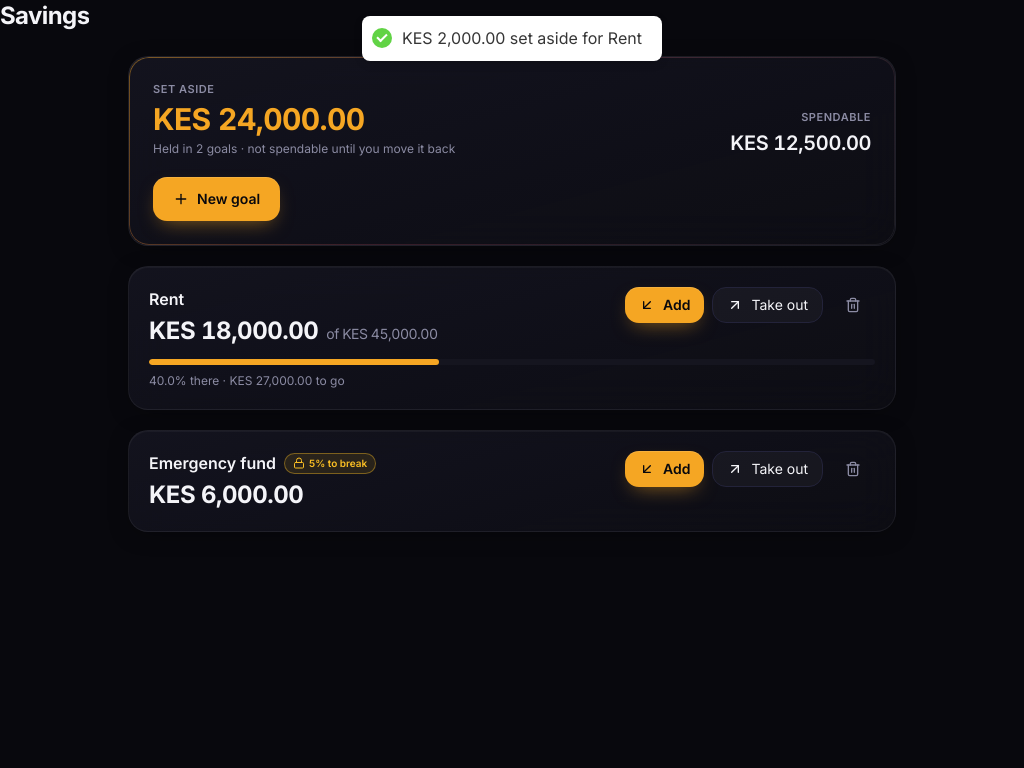
Test: Savings › quotes the early-exit fee before a locked goal is broken into
Click the button "Take out" in the row of "% to break" at (768,469), box [712,451,823,487]
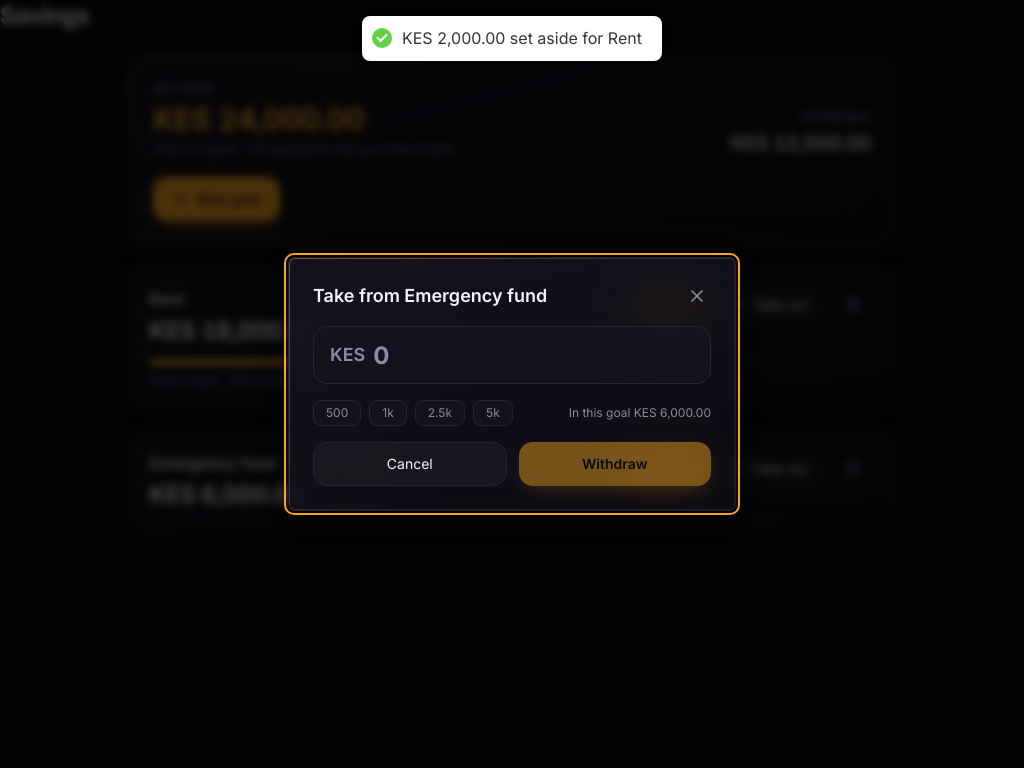
Type "1000" into the field named "amount" at (534,355), box [373,327,694,383]
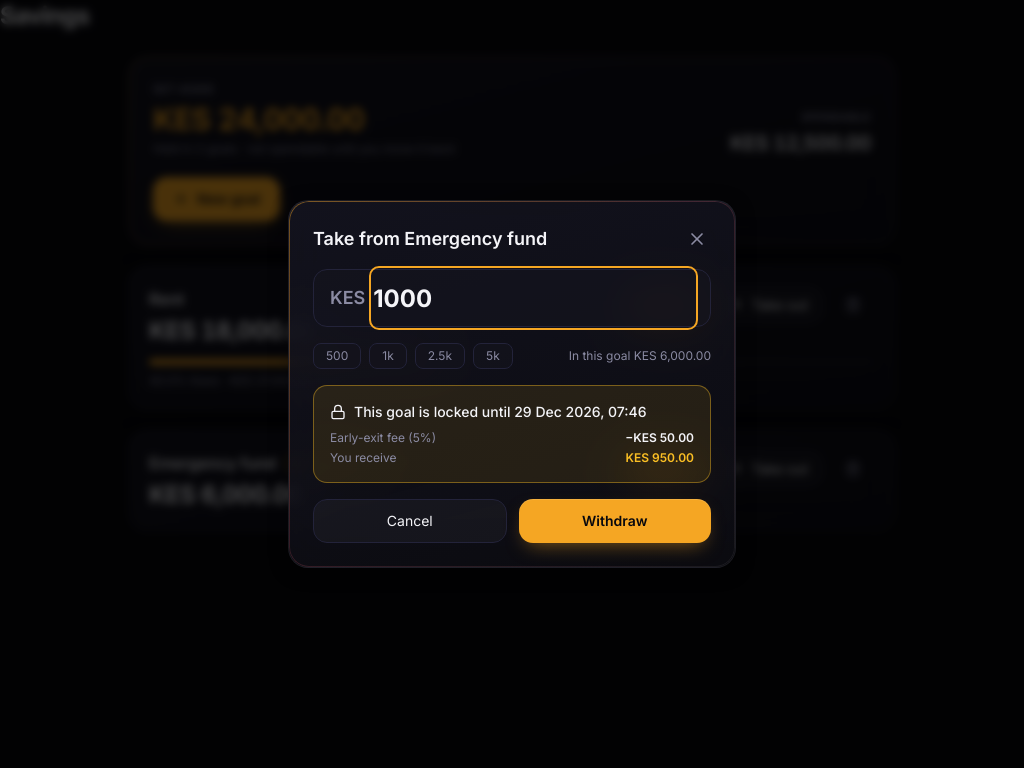
Check: the text "−KES 50.00" is shown, box [625,430,694,446]
Check: the text "KES 950.00" is shown, box [626,450,694,466]
Check: the text "This goal is locked until 29 Dec 2026, 07:46" is shown, box [330,402,694,422]
